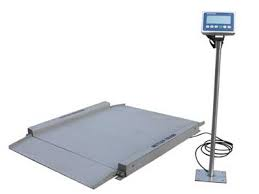Industrial Scale: (7, 12, 235, 190)
